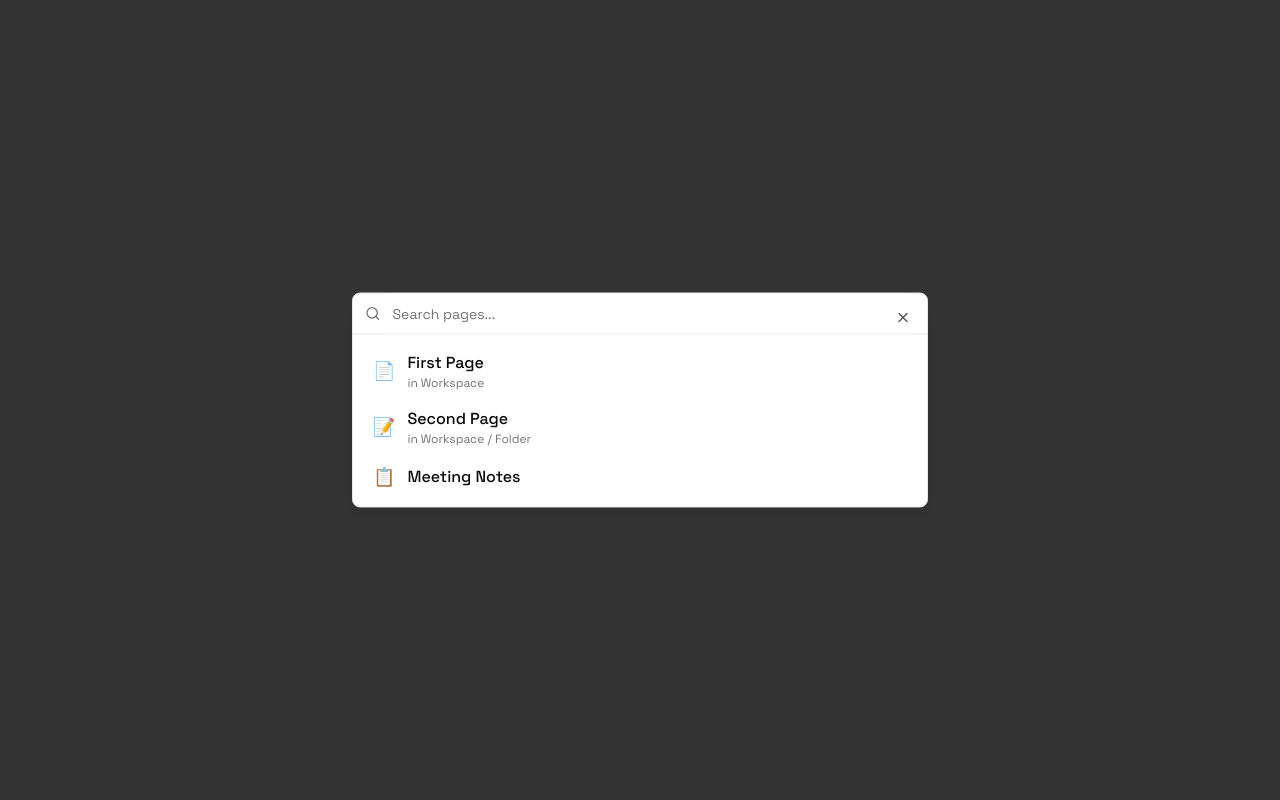
Test: SearchDialog › search functionality › should show no results message when no pages match
Type "nonexistent" into the field with placeholder "Search pages...". click: x=648, y=314
box: [380, 294, 915, 334]
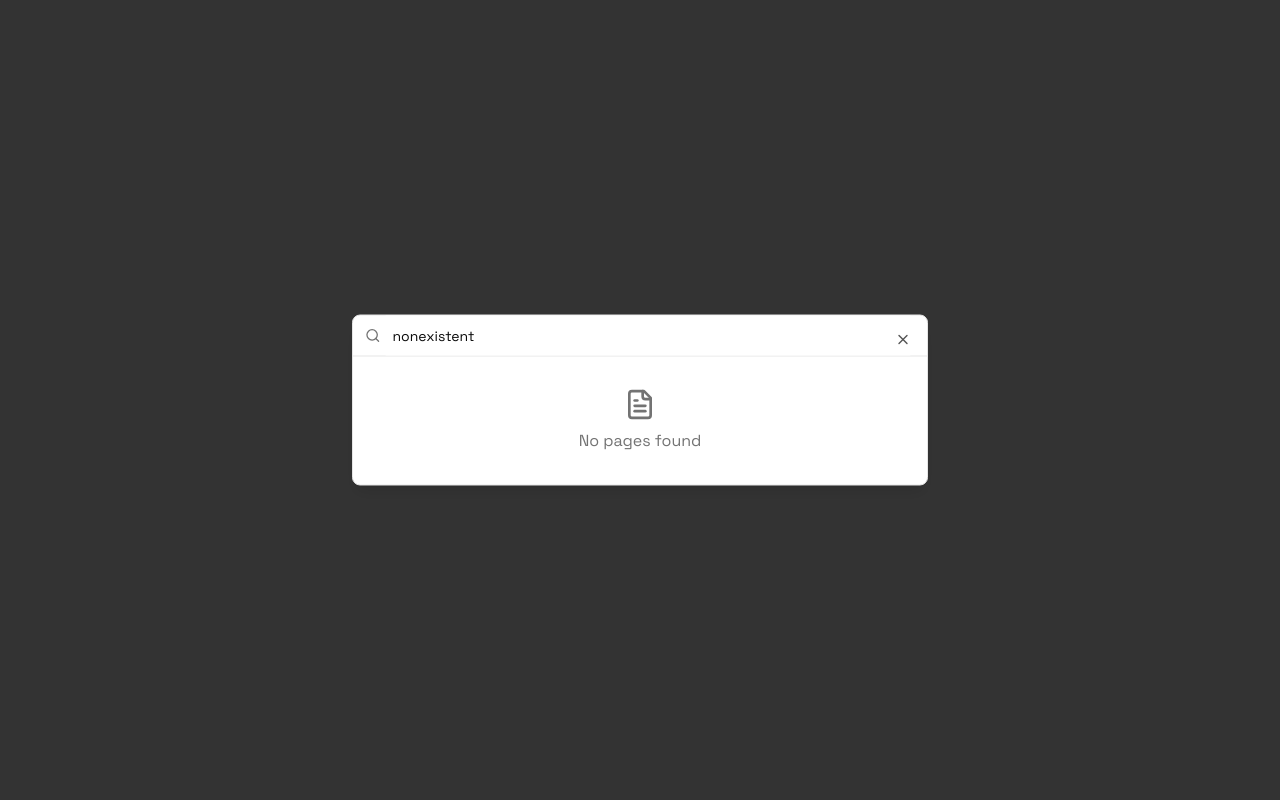
Now the text "No pages found" is shown, box [579, 430, 701, 450]
